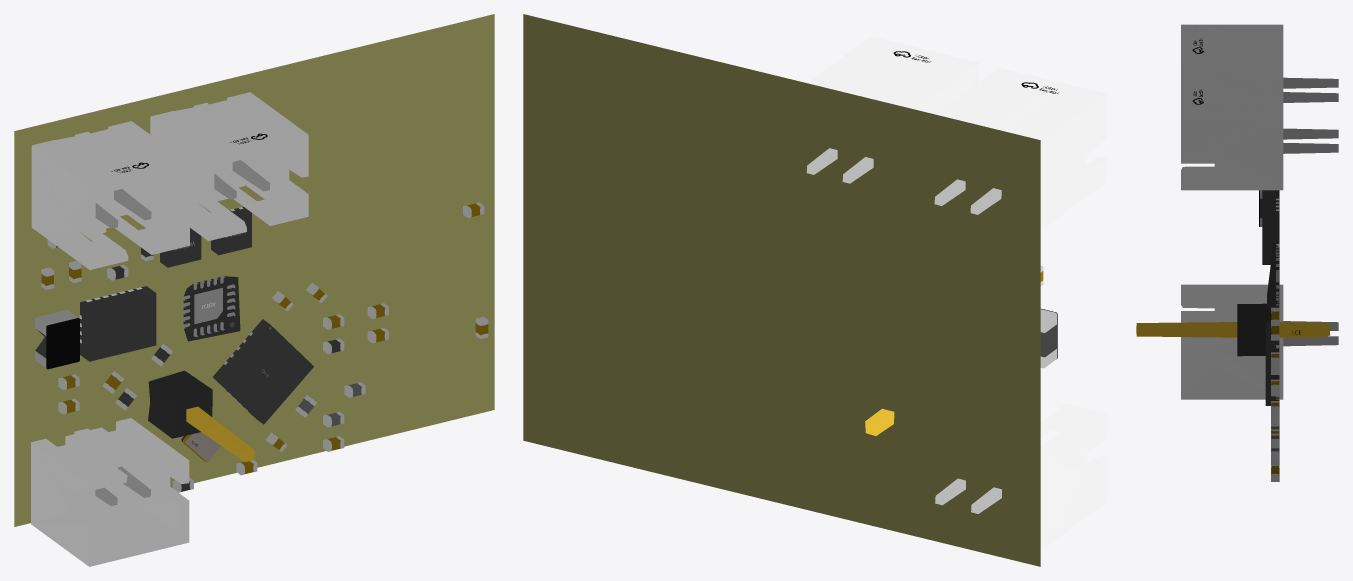
The model's file is pcb.glb.
3 views of the same model, side by side, from view 1: azimuth 30°, elevation 25°; view 2: azimuth 150°, elevation 25°; view 3: azimuth 270°, elevation 25° (orthographic). The views are drawn at different scales.
Parts seen in each view (by area): view 1: Asset3DLoader.sceneRoot; view 2: Asset3DLoader.sceneRoot; view 3: Asset3DLoader.sceneRoot.
Part boxes in pixels (<box>): Asset3DLoader.sceneRoot: <box>14,14,494,566</box>; Asset3DLoader.sceneRoot: <box>523,14,1107,566</box>; Asset3DLoader.sceneRoot: <box>1136,24,1338,481</box>.
Size of the model in its own units: 113 by 89.3 by 47.14.
